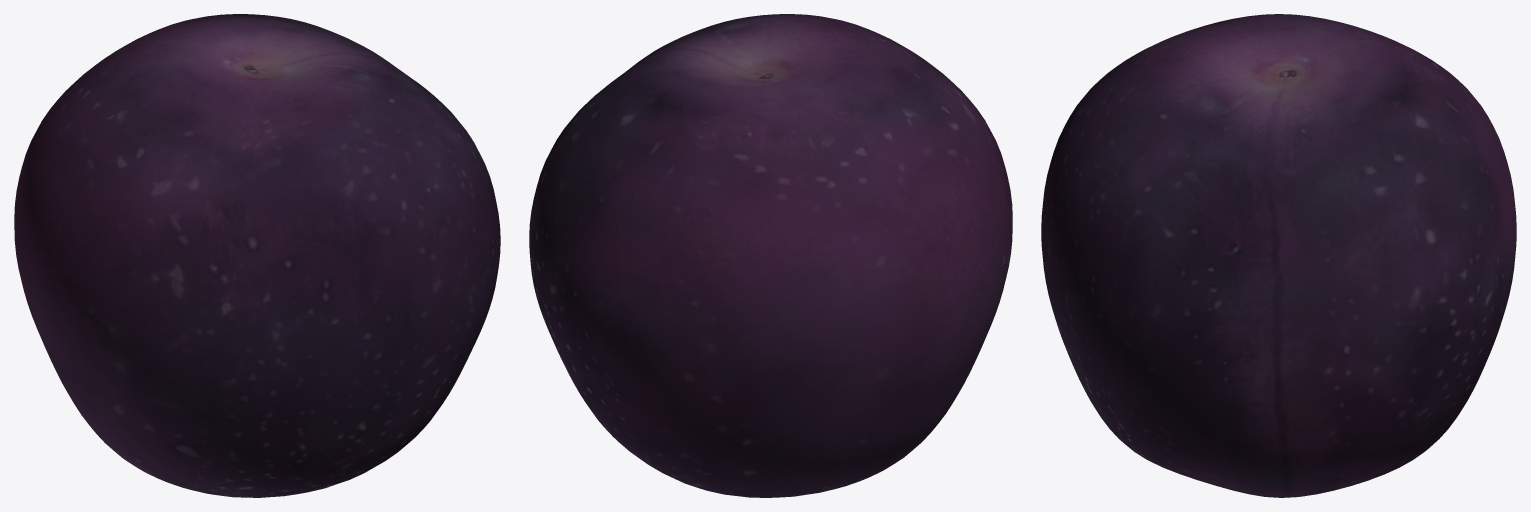
Rendered from PurpleFruitPlum.fbx.
3 views of the same model, side by side, from view 1: azimuth 30°, elevation 25°; view 2: azimuth 150°, elevation 25°; view 3: azimuth 270°, elevation 25° (orthographic).
Visible parts, largest first — view 1: Plium; view 2: Plium; view 3: Plium.
Part boxes in pixels (<box>): Plium: <box>14,14,500,497</box>; Plium: <box>529,14,1012,497</box>; Plium: <box>1041,14,1516,497</box>.
Size of the model in its own units: 0.0704 by 0.0728 by 0.0706.
1 material, 1 textured.
